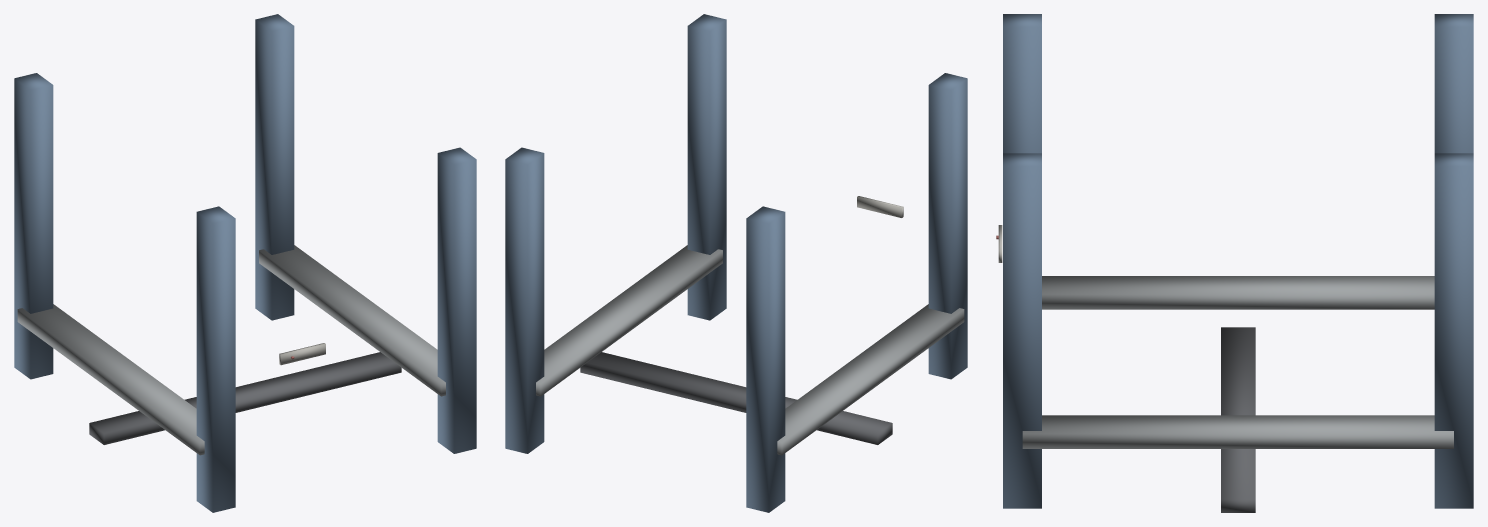
Rendered from four_post_car_lift__squat.glb.
3 renders of one model, left to right at view 1: azimuth 30°, elevation 25°; view 2: azimuth 150°, elevation 25°; view 3: azimuth 270°, elevation 25°, orthographic. The views are drawn at different scales.
Parts seen in each view (by area): view 1: world; view 2: world; view 3: world.
Boxes of the visible parts, left/top/right/bottom form: world: left=14, top=14, right=476, bottom=512; world: left=505, top=14, right=967, bottom=512; world: left=996, top=14, right=1473, bottom=512.
Size of the model in its own units: 2.04 by 1.89 by 2.39.
